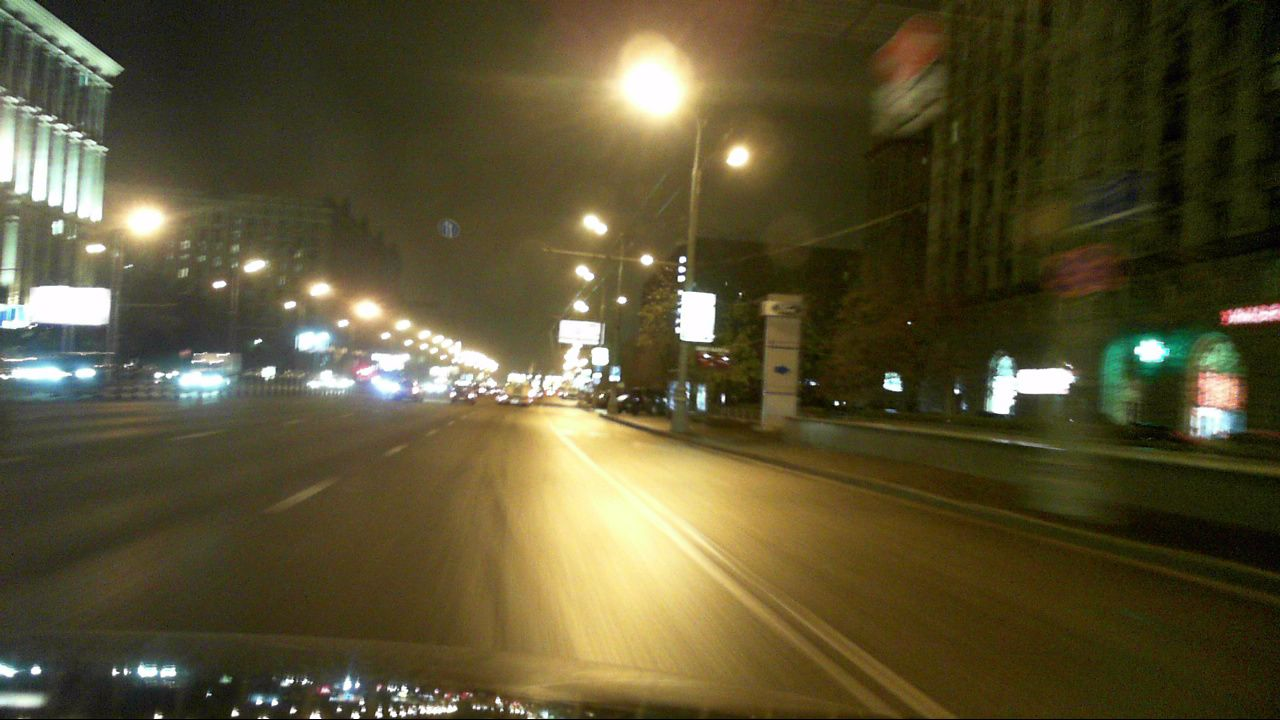No Parking: (1075, 243, 1125, 292)
